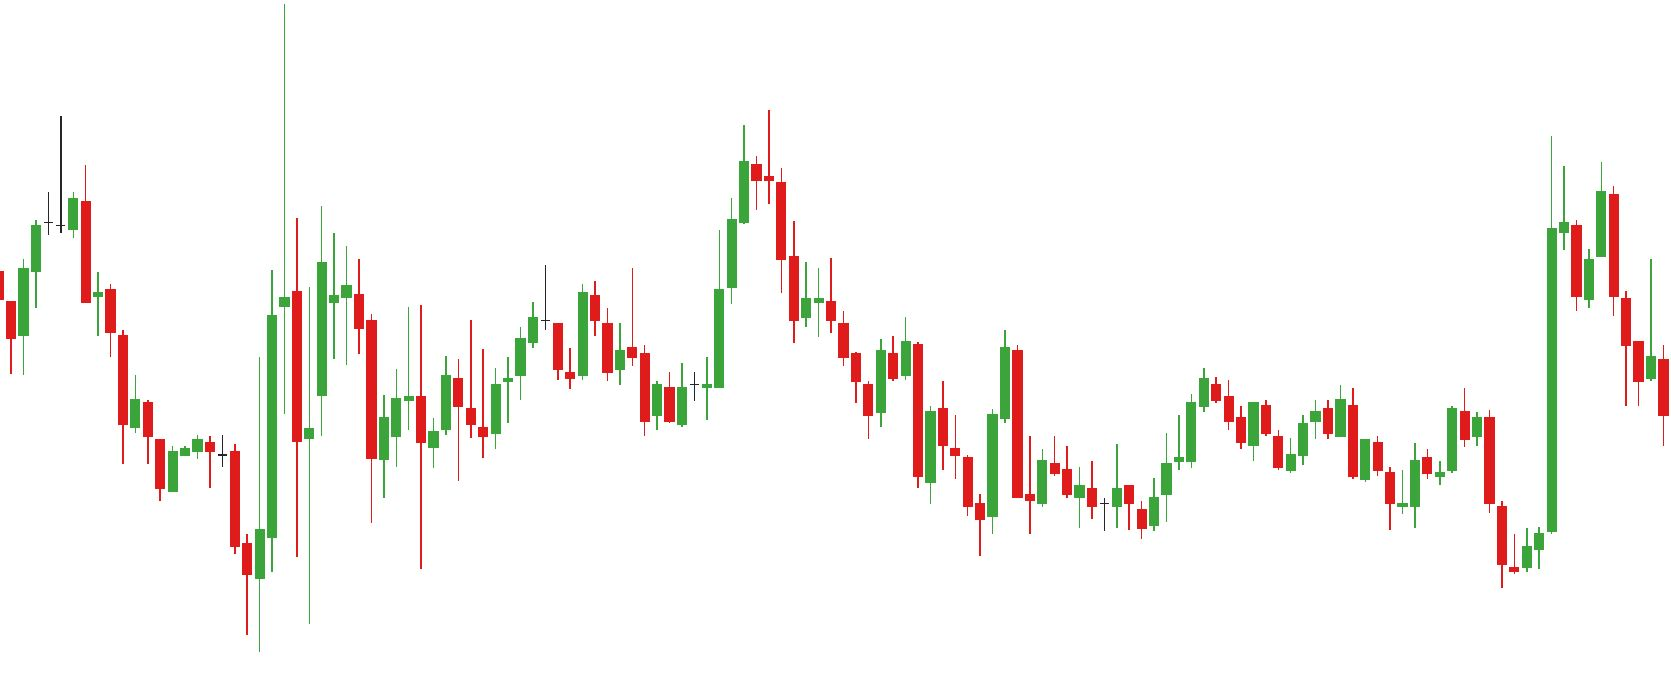buy: (563, 318, 663, 437)
